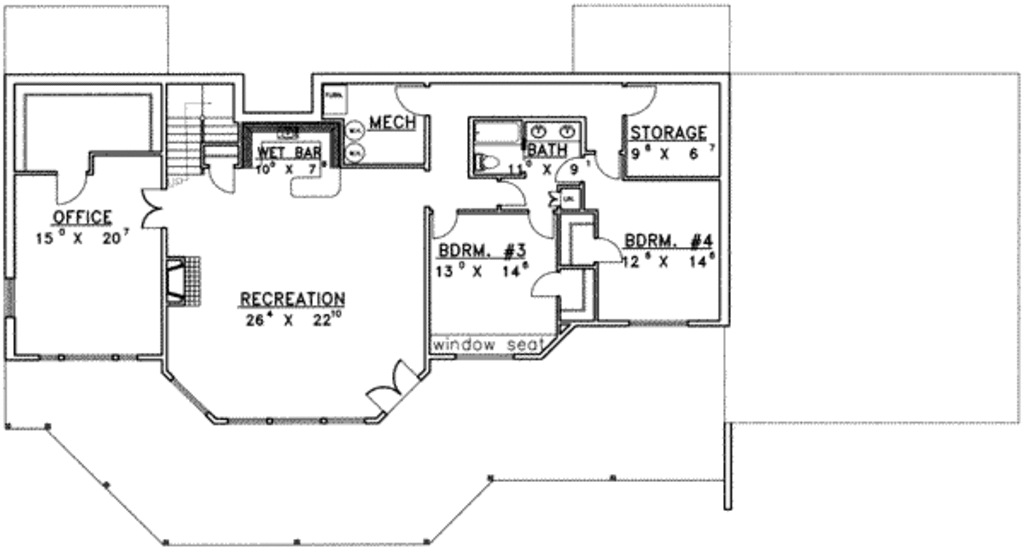door: (359, 360, 430, 419), (48, 167, 89, 211), (135, 183, 173, 230), (417, 201, 462, 239), (521, 266, 566, 302), (613, 85, 667, 114), (199, 162, 243, 196), (391, 80, 432, 116), (589, 150, 631, 183), (553, 156, 596, 187), (591, 231, 626, 269), (493, 178, 529, 212), (525, 209, 559, 243)
large_sink: (466, 148, 511, 173)
small_sink: (521, 117, 583, 141)
tub: (471, 112, 524, 143)
